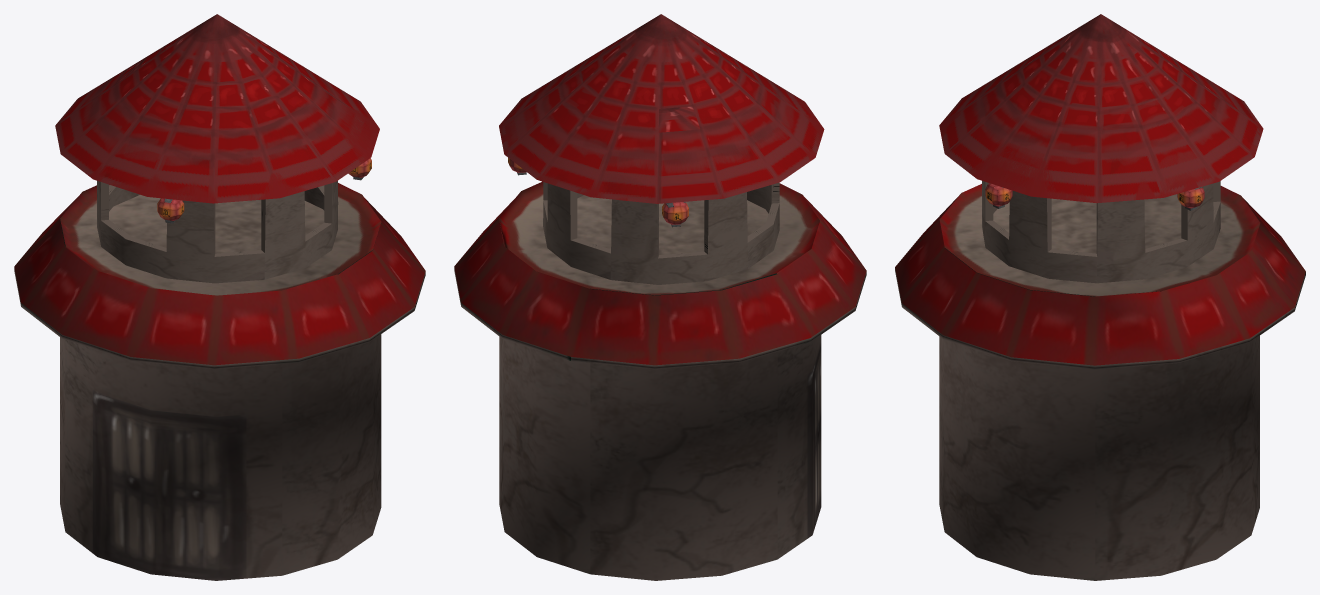
Rendered from Tower 3 base.fbx.
3 views of the same model, side by side, from view 1: azimuth 30°, elevation 25°; view 2: azimuth 150°, elevation 25°; view 3: azimuth 270°, elevation 25° (orthographic).
Parts seen in each view (by area): view 1: Cylinder, Cone, Cylinder.1, lampion 1; view 2: Cylinder, Cone, Cylinder.1, lampion 1.2; view 3: Cylinder, Cone, Cylinder.1.
Part boxes in pixels (x1,y1,x2,y2): Cylinder: [14, 183, 425, 580]; Cone: [55, 14, 379, 203]; Cylinder.1: [97, 181, 338, 283]; lampion 1: [157, 198, 184, 223]; Cylinder: [454, 181, 866, 580]; Cone: [499, 14, 824, 203]; Cylinder.1: [543, 182, 779, 284]; lampion 1.2: [662, 201, 688, 227]; Cylinder: [895, 184, 1305, 580]; Cone: [939, 14, 1263, 203]; Cylinder.1: [982, 181, 1220, 283].
Bounding box in the file's own units: 243 × 326 × 244.
Materials: 7 (7 with a texture image).
